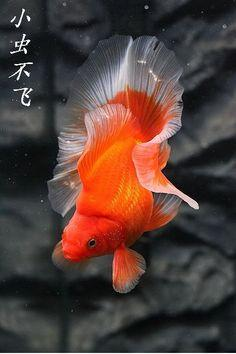goldfish: (57, 39, 205, 298)
